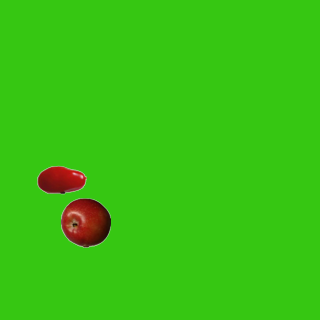Apple Braeburn: (60, 197, 110, 247)
Tomato 2: (36, 154, 86, 204)
